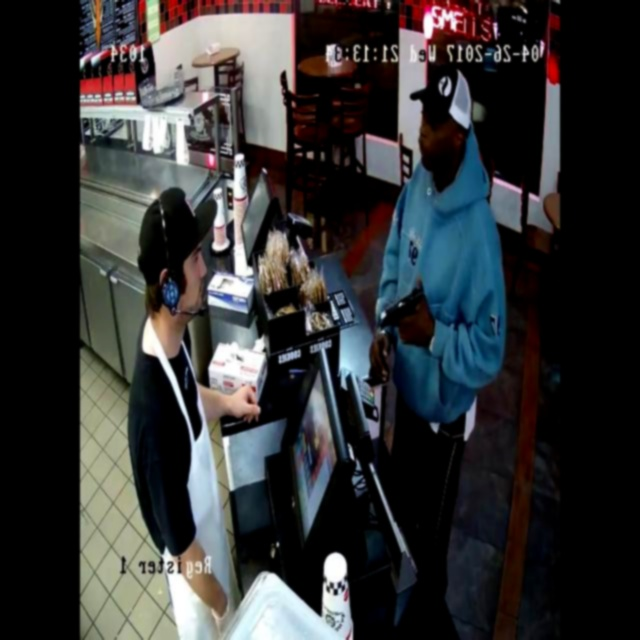gun: (371, 270, 437, 342)
